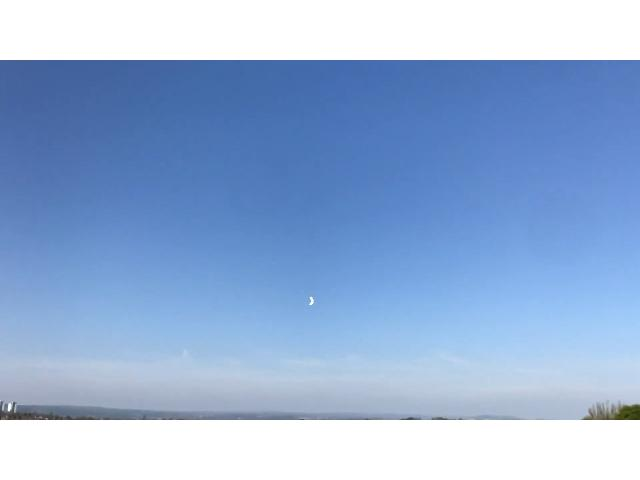Anti-Drone: (296, 286, 330, 312)
